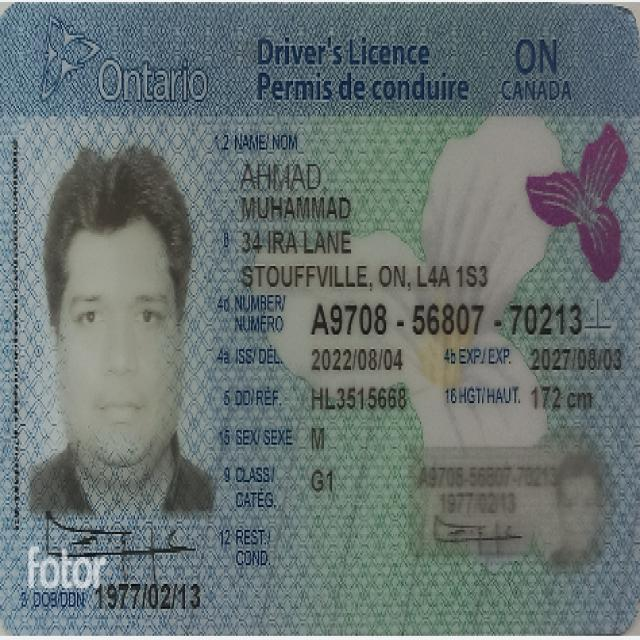Adidas: (1, 0, 640, 640), (9, 528, 236, 626)
